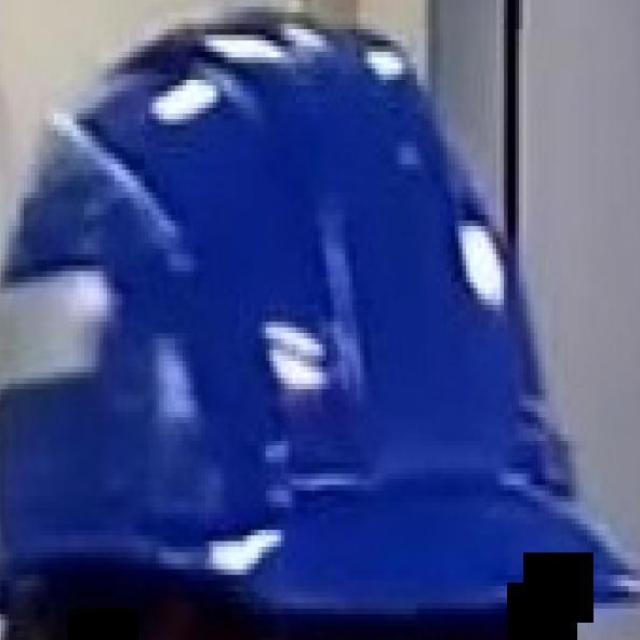helmet: (0, 8, 639, 632)
